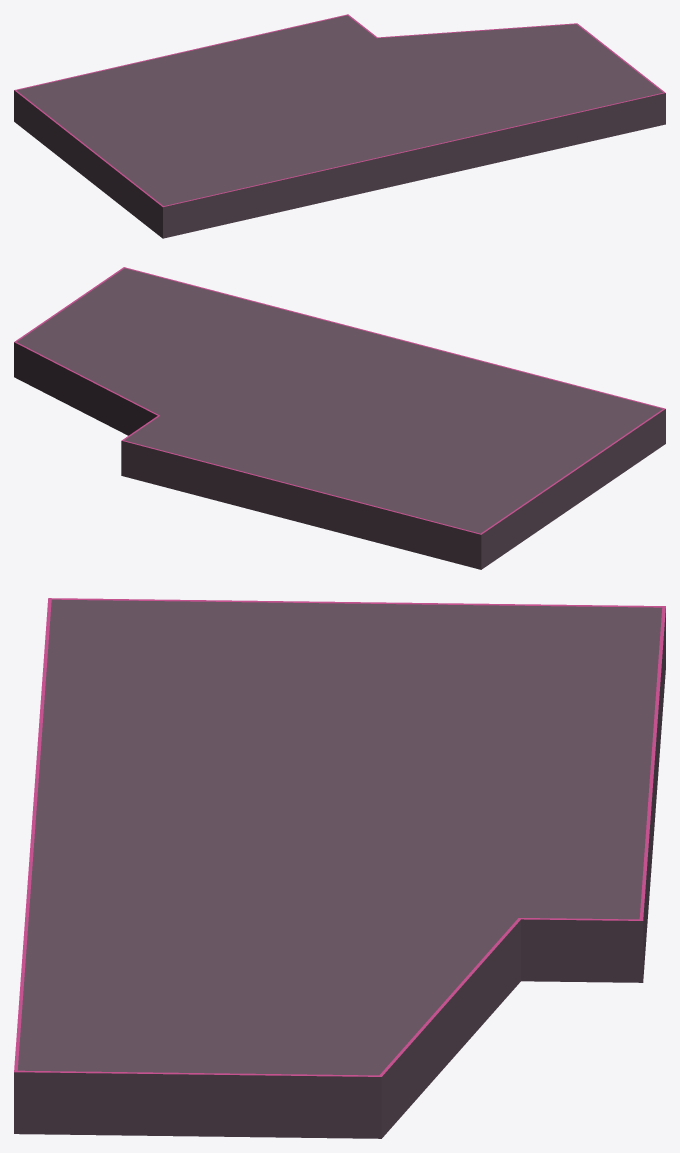
The model's file is way-205657491.glb.
The picture shows the model from 3 angles, top to bottom: view 1: azimuth 30°, elevation 25°; view 2: azimuth 150°, elevation 25°; view 3: azimuth 270°, elevation 25°; orthographic projection. The views are drawn at different scales.
Parts seen in each view (by area): view 1: way-205657491; view 2: way-205657491; view 3: way-205657491.
Part boxes in pixels (<box>): way-205657491: <box>14,14,665,238</box>; way-205657491: <box>14,267,665,569</box>; way-205657491: <box>14,598,665,1138</box>.
Bounding box in the file's own units: 49.8 × 3 × 28.65.
